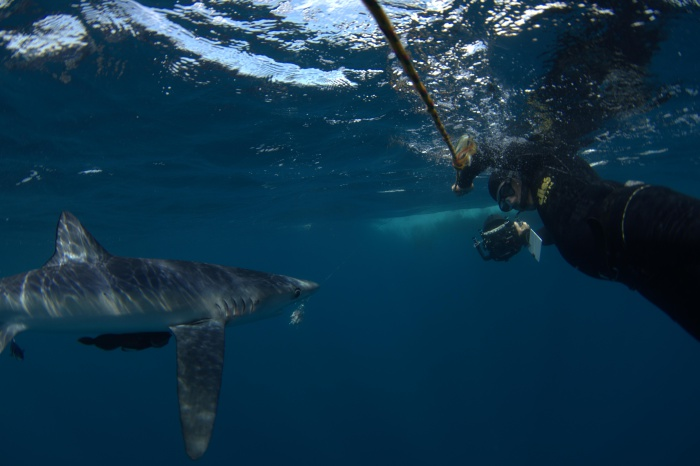Azul: (1, 201, 338, 458), (215, 205, 333, 292)
